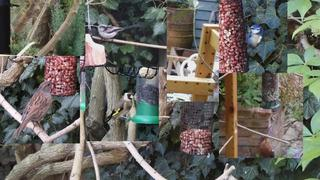blue tit: (243, 24, 263, 54)
dunnock: (12, 80, 56, 139)
goldfinch: (104, 91, 135, 124)
long tailed tit: (96, 24, 143, 42)
